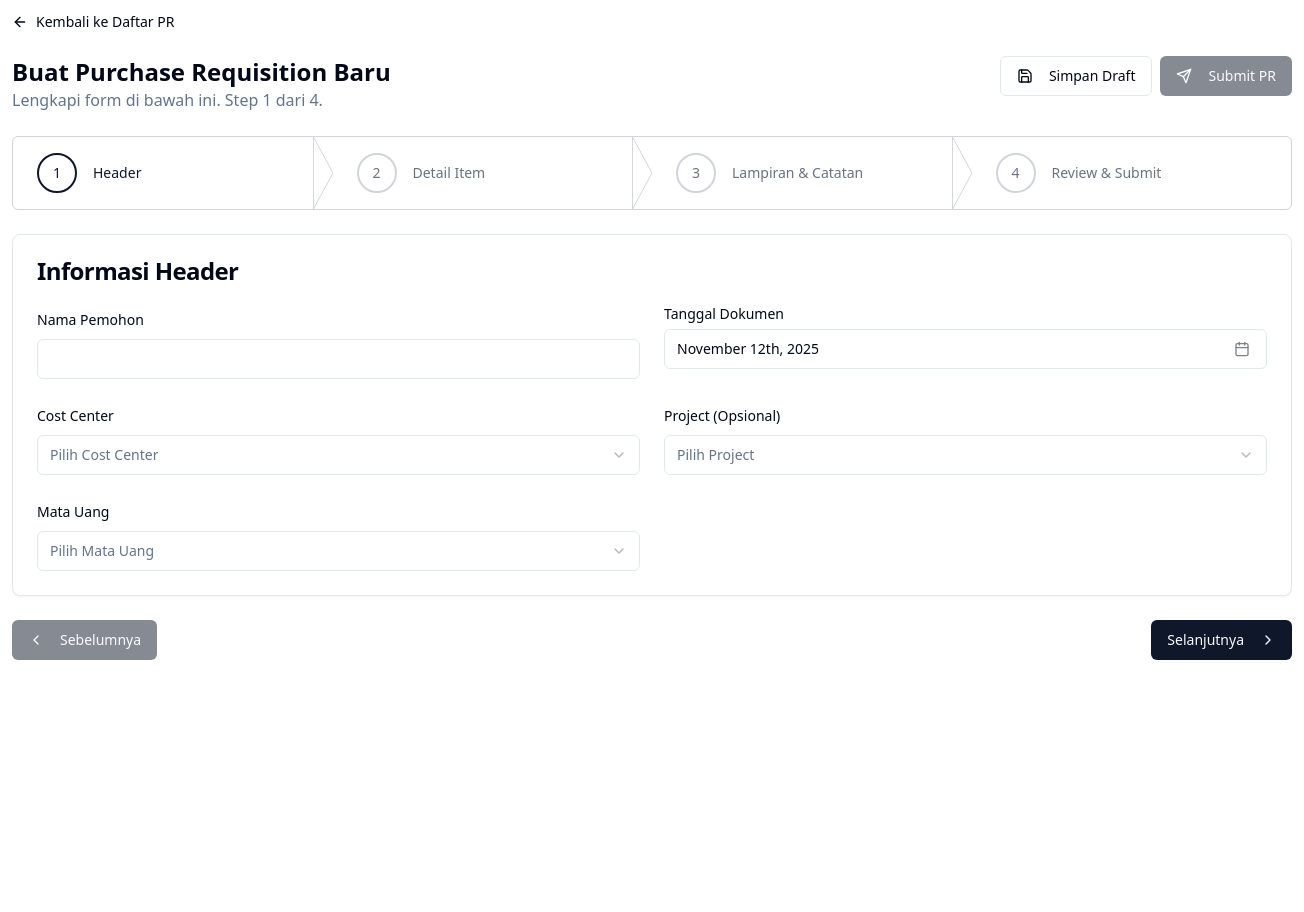
it: PREditPage › shows validation errors when creating a new PR with empty fields
Expected: the heading "Buat Purchase Requisition Baru" is shown, [12, 56, 391, 88]
// Attempt to go to the next step to trigger validation
Click the button "Selanjutnya" at point(1222, 640), box [1151, 620, 1292, 660]
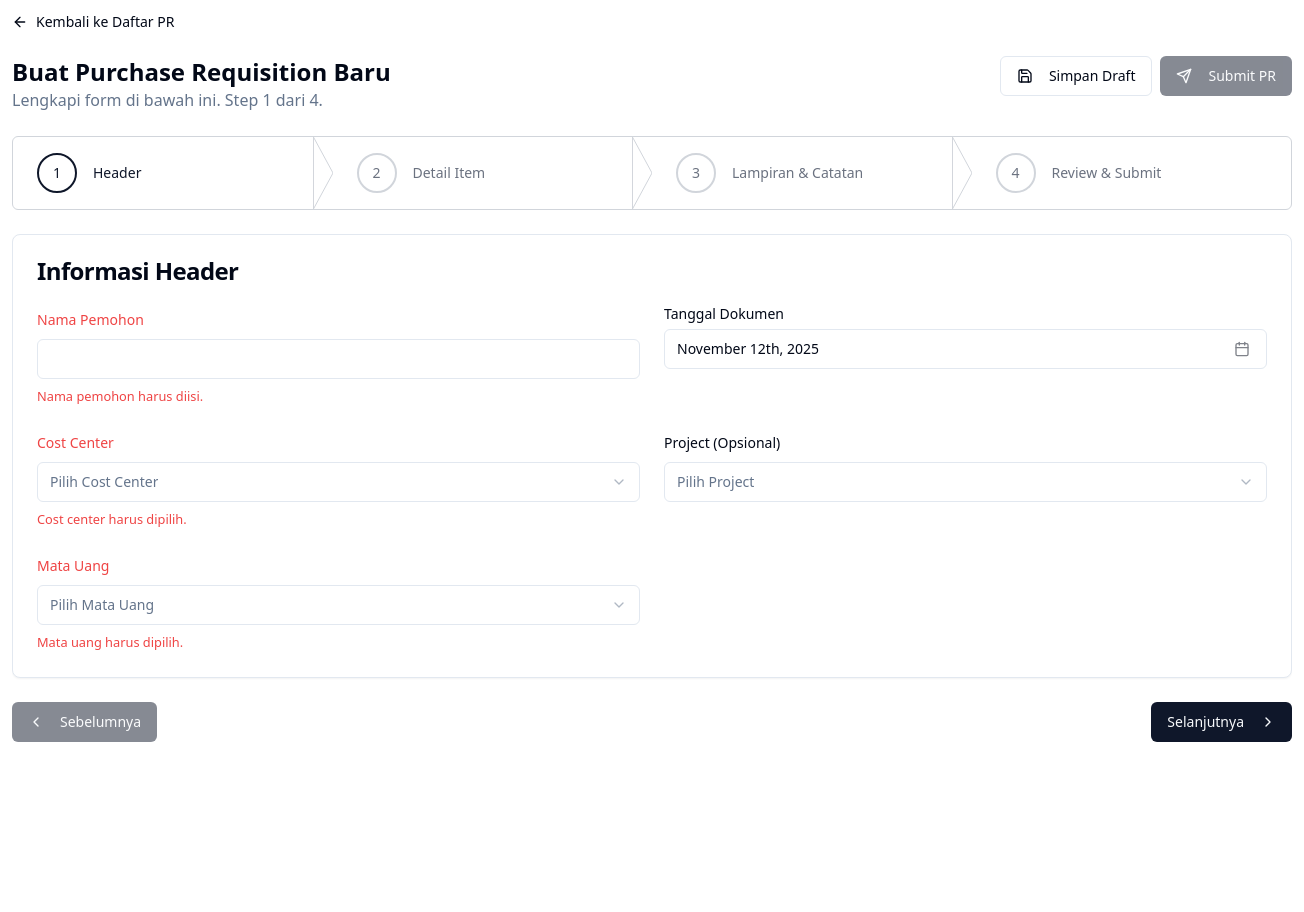
Expected: the text "Nama pemohon harus diisi." is shown, [37, 387, 203, 405]
Expected: the text "Cost center harus dipilih." is shown, [37, 510, 187, 528]
